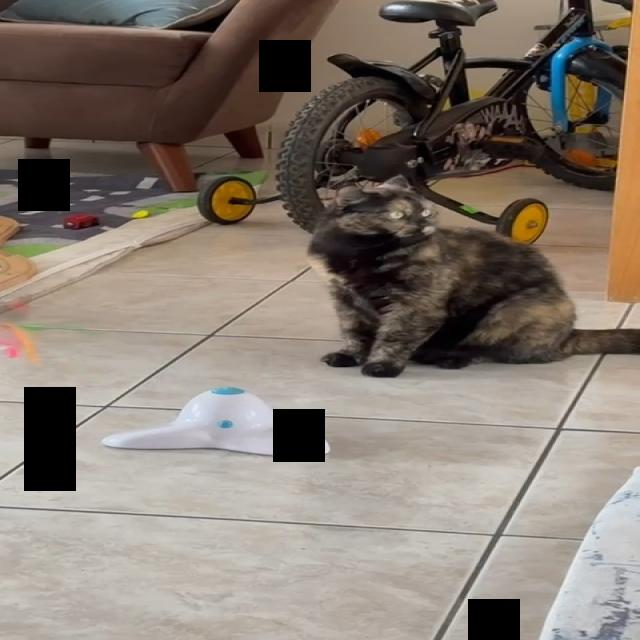authorized: (305, 174, 639, 378)
